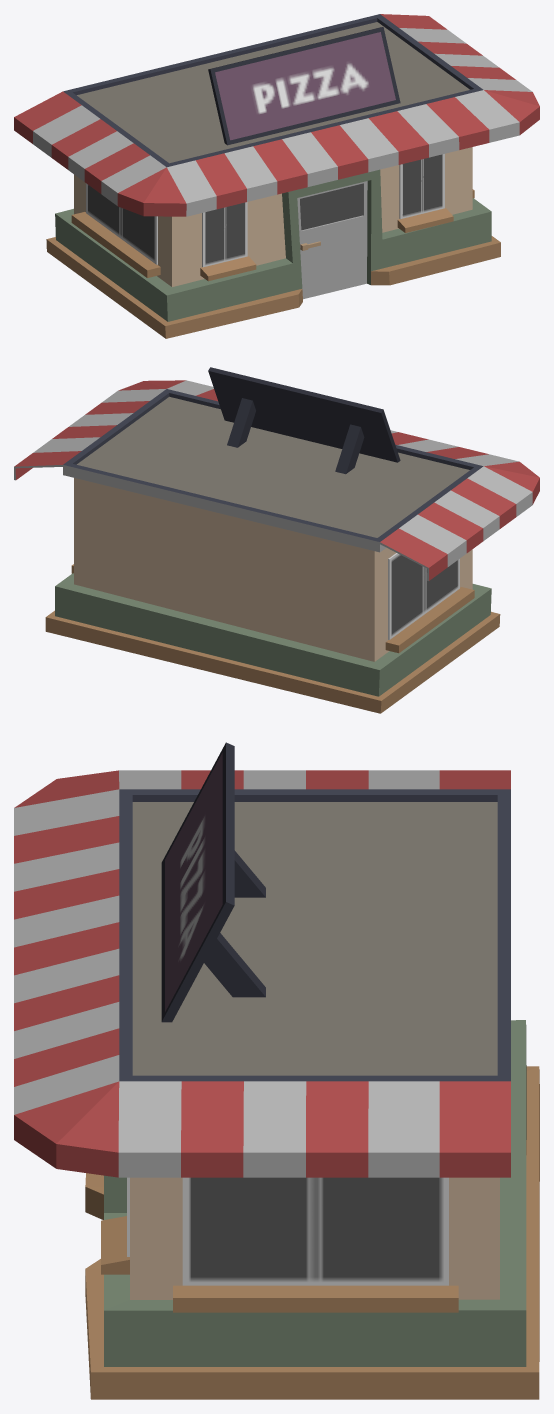
The model's file is pizza03_color01.fbx.
3 renders of one model, top to bottom at view 1: azimuth 30°, elevation 25°; view 2: azimuth 150°, elevation 25°; view 3: azimuth 270°, elevation 25°, orthographic. The views are drawn at different scales.
Parts seen in each view (by area): view 1: pizza03_color01; view 2: pizza03_color01; view 3: pizza03_color01.
Part boxes in pixels (x1=…): pizza03_color01: x1=14, y1=14, x2=539, y2=338; pizza03_color01: x1=14, y1=367, x2=539, y2=713; pizza03_color01: x1=14, y1=742, x2=539, y2=1399.
Bounding box in the file's own units: 1140 × 588 × 663.
